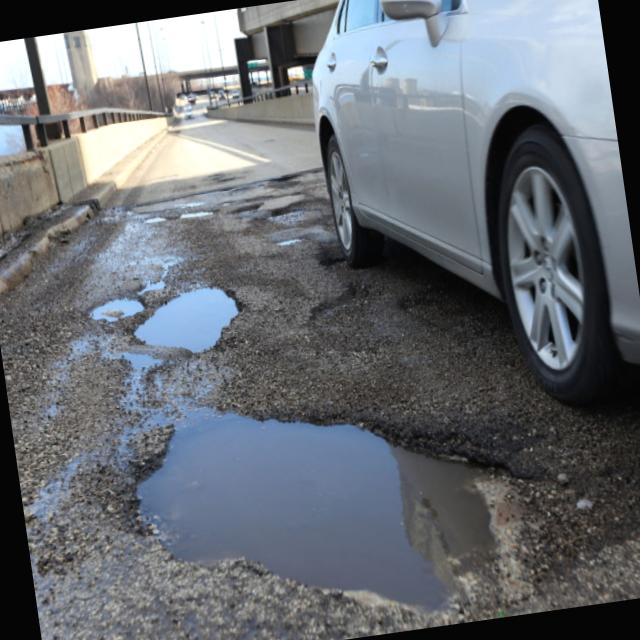bad-road: (113, 360, 543, 640), (129, 281, 249, 363), (262, 195, 328, 228), (84, 294, 144, 324), (272, 165, 328, 189), (180, 206, 214, 220), (230, 202, 262, 214), (142, 211, 166, 226)
